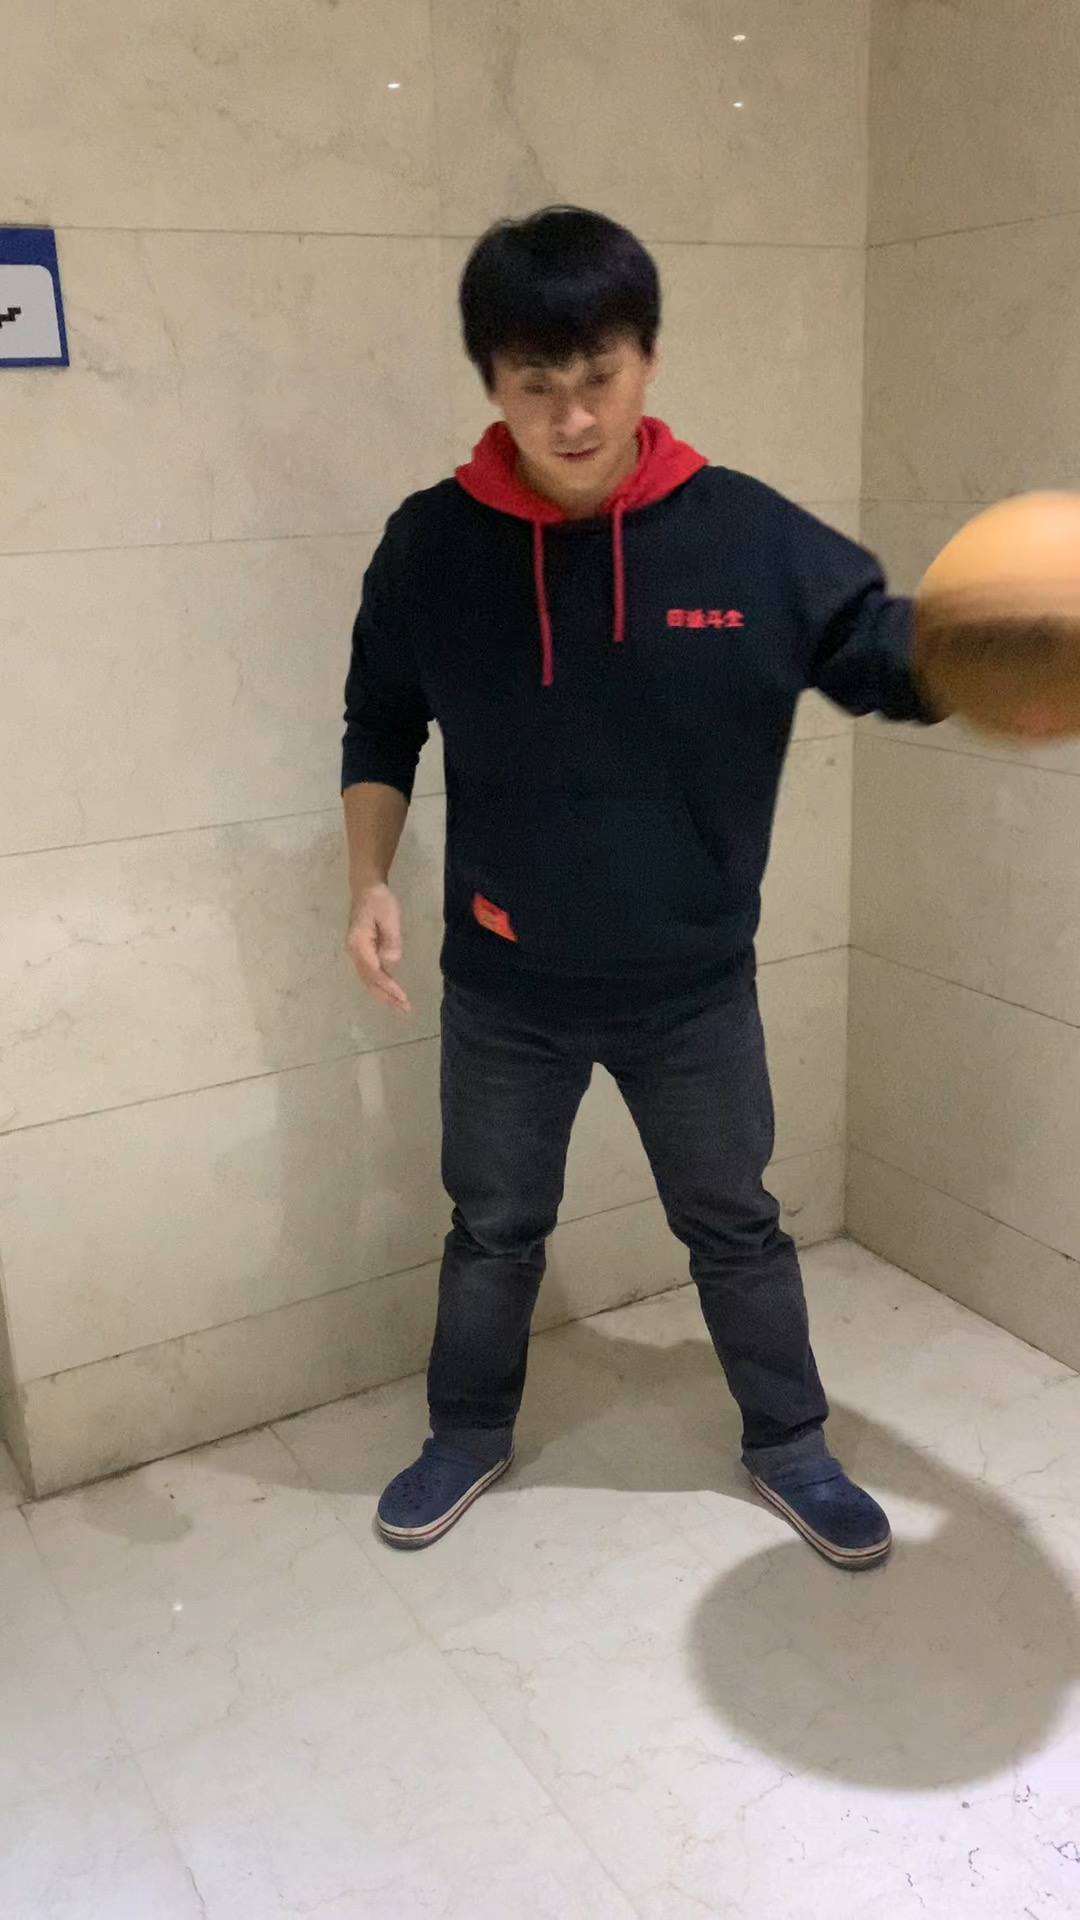ball: (899, 481, 1080, 756)
